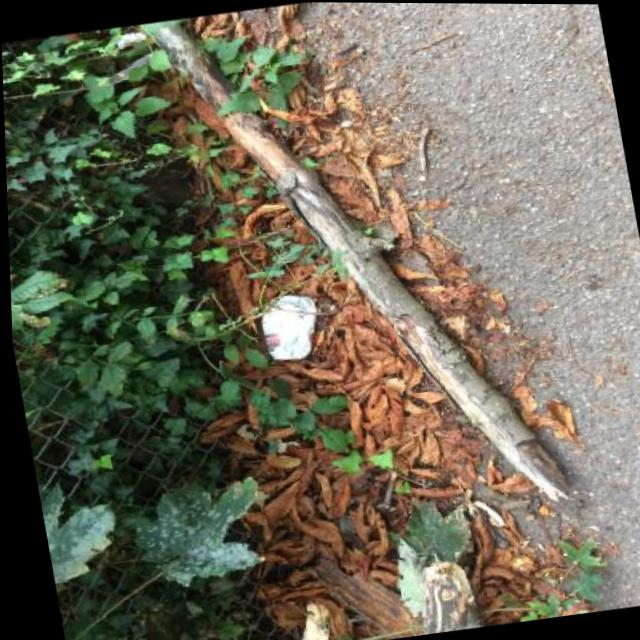metal: (257, 290, 326, 363)
